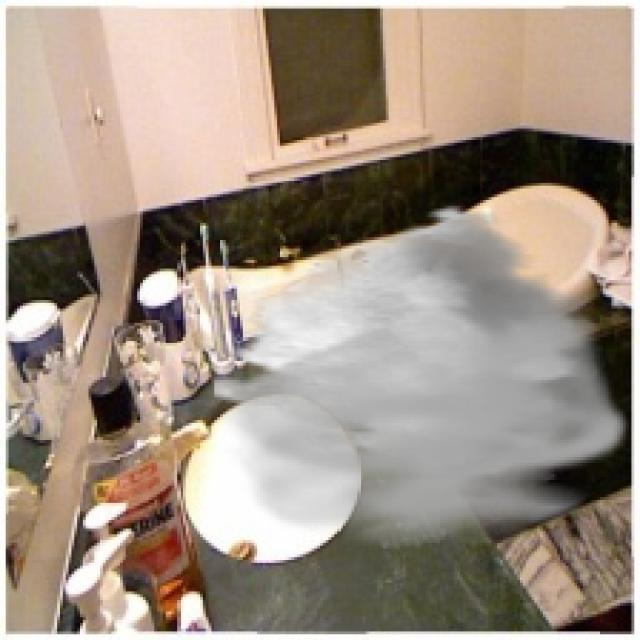Smoke: (215, 202, 634, 548)
